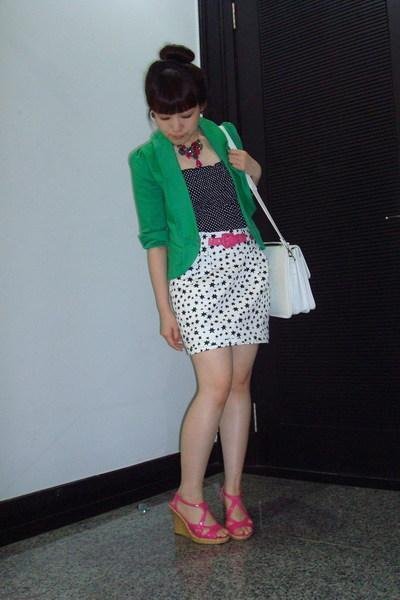bag: (255, 204, 314, 318)
jacket: (129, 118, 280, 280)
shirt: (182, 156, 245, 228)
shoe: (168, 492, 251, 543)
skirt: (170, 228, 283, 353)
